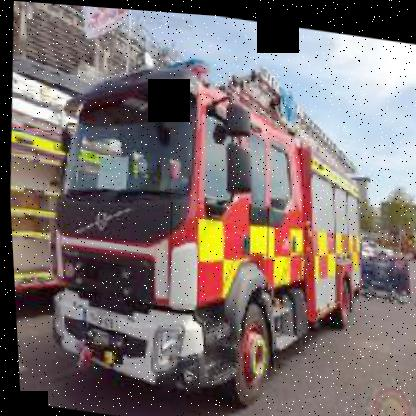emergency: (29, 29, 384, 415)
